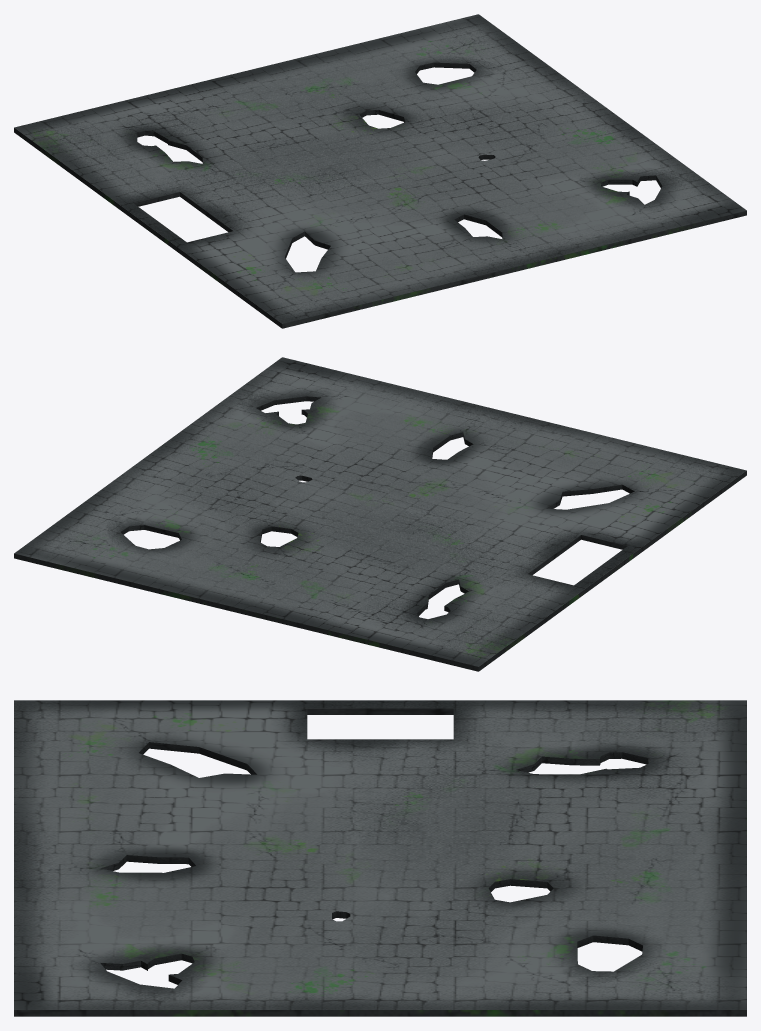
File: Floor 1.fbx
3 views of the same model, one above another, from view 1: azimuth 30°, elevation 25°; view 2: azimuth 150°, elevation 25°; view 3: azimuth 270°, elevation 25° (orthographic). The views are drawn at different scales.
Parts seen in each view (by area): view 1: Floor !; view 2: Floor !; view 3: Floor !.
Part boxes in pixels (x1=…): Floor !: x1=14, y1=14, x2=746, y2=328; Floor !: x1=14, y1=357, x2=746, y2=671; Floor !: x1=14, y1=700, x2=746, y2=1016.
Size of the model in its own units: 2000 by 20 by 2000.
